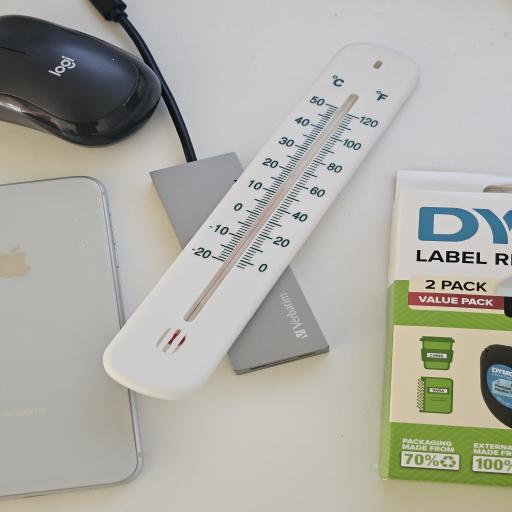thermometer: (102, 42, 423, 402)
